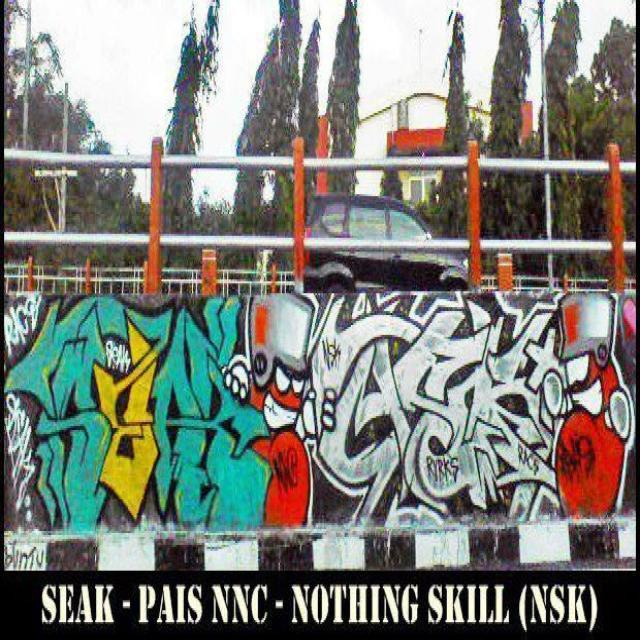-: (306, 295, 632, 523), (0, 299, 270, 533), (1, 392, 36, 525), (0, 291, 44, 355), (1, 539, 44, 567)
